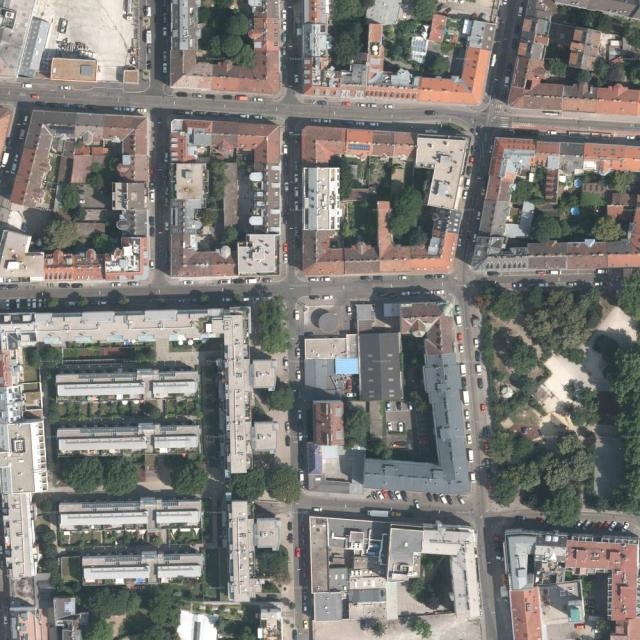building: (362, 309, 478, 494), (308, 511, 481, 621), (10, 105, 151, 212), (0, 307, 249, 362), (0, 349, 48, 606), (504, 530, 640, 592), (562, 534, 640, 622), (304, 234, 458, 276), (472, 238, 640, 275), (170, 116, 281, 170), (55, 361, 200, 401), (59, 497, 204, 536), (163, 160, 209, 278), (315, 73, 484, 105), (300, 121, 421, 165), (81, 546, 205, 588), (56, 422, 201, 456), (224, 313, 252, 474), (411, 134, 468, 210), (236, 184, 282, 277), (302, 168, 341, 268), (304, 442, 366, 496), (359, 332, 403, 401), (478, 170, 517, 239), (229, 500, 255, 602), (17, 16, 52, 80), (457, 46, 492, 104), (43, 249, 104, 281), (112, 182, 148, 236), (104, 237, 149, 280), (504, 529, 540, 579), (567, 26, 604, 72), (399, 302, 445, 338), (177, 251, 236, 277), (314, 400, 344, 445), (52, 597, 83, 639), (50, 57, 98, 82), (265, 162, 281, 233), (366, 22, 384, 84), (599, 34, 636, 64), (304, 358, 336, 392), (17, 607, 49, 640), (466, 19, 497, 51), (253, 516, 281, 551), (302, 55, 329, 91), (304, 338, 347, 359), (302, 24, 328, 57), (378, 201, 392, 258), (417, 123, 450, 145), (429, 13, 448, 43), (53, 597, 76, 620), (317, 312, 339, 335), (445, 209, 463, 234), (335, 358, 359, 375), (390, 68, 412, 86), (355, 302, 375, 321), (350, 62, 366, 84), (121, 68, 139, 85), (382, 302, 401, 318), (249, 171, 269, 185), (346, 334, 358, 357), (391, 165, 407, 182), (6, 261, 22, 270), (271, 182, 280, 189)
greenland: (481, 319, 640, 527), (470, 281, 602, 356), (49, 396, 203, 431), (82, 588, 184, 640), (25, 522, 75, 601), (228, 461, 302, 504), (382, 185, 430, 250), (383, 183, 428, 244), (557, 189, 606, 241), (33, 212, 84, 260), (80, 149, 128, 195), (383, 15, 427, 64), (338, 196, 379, 246), (256, 296, 290, 354), (505, 167, 553, 207), (326, 150, 363, 200), (58, 456, 105, 494), (589, 212, 629, 251), (104, 457, 139, 496), (171, 461, 209, 496), (256, 546, 289, 584), (530, 210, 563, 245), (344, 404, 370, 448), (206, 160, 228, 208), (24, 344, 63, 369), (265, 381, 295, 411), (421, 51, 452, 80), (58, 181, 83, 214), (364, 433, 394, 460), (406, 387, 431, 417), (408, 0, 438, 23), (88, 231, 113, 256), (610, 171, 635, 194), (220, 224, 242, 249), (196, 207, 221, 227), (132, 344, 157, 364)
metalled_road: (149, 88, 491, 125), (446, 123, 503, 264), (299, 490, 471, 531), (461, 298, 491, 504), (0, 80, 195, 108), (292, 274, 450, 305), (483, 0, 527, 102), (151, 110, 176, 274), (149, 268, 235, 302), (291, 505, 312, 640), (482, 269, 601, 291), (286, 118, 301, 266), (280, 0, 304, 92), (282, 389, 304, 488), (579, 501, 640, 534), (277, 268, 300, 330), (446, 258, 478, 290), (287, 325, 302, 382), (471, 110, 509, 125), (158, 6, 172, 44)
